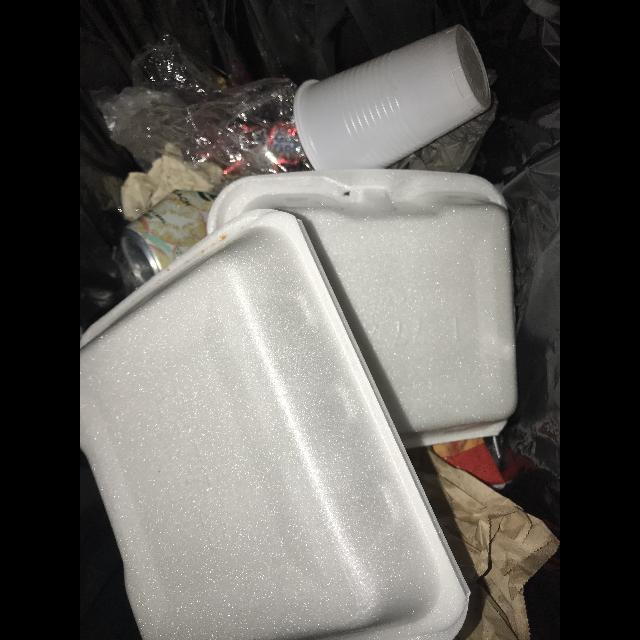metal: (121, 190, 217, 285)
paper: (407, 449, 560, 640)
plastic: (293, 25, 492, 171), (98, 41, 299, 170)
styrofoam: (80, 209, 471, 640), (205, 170, 518, 450)
